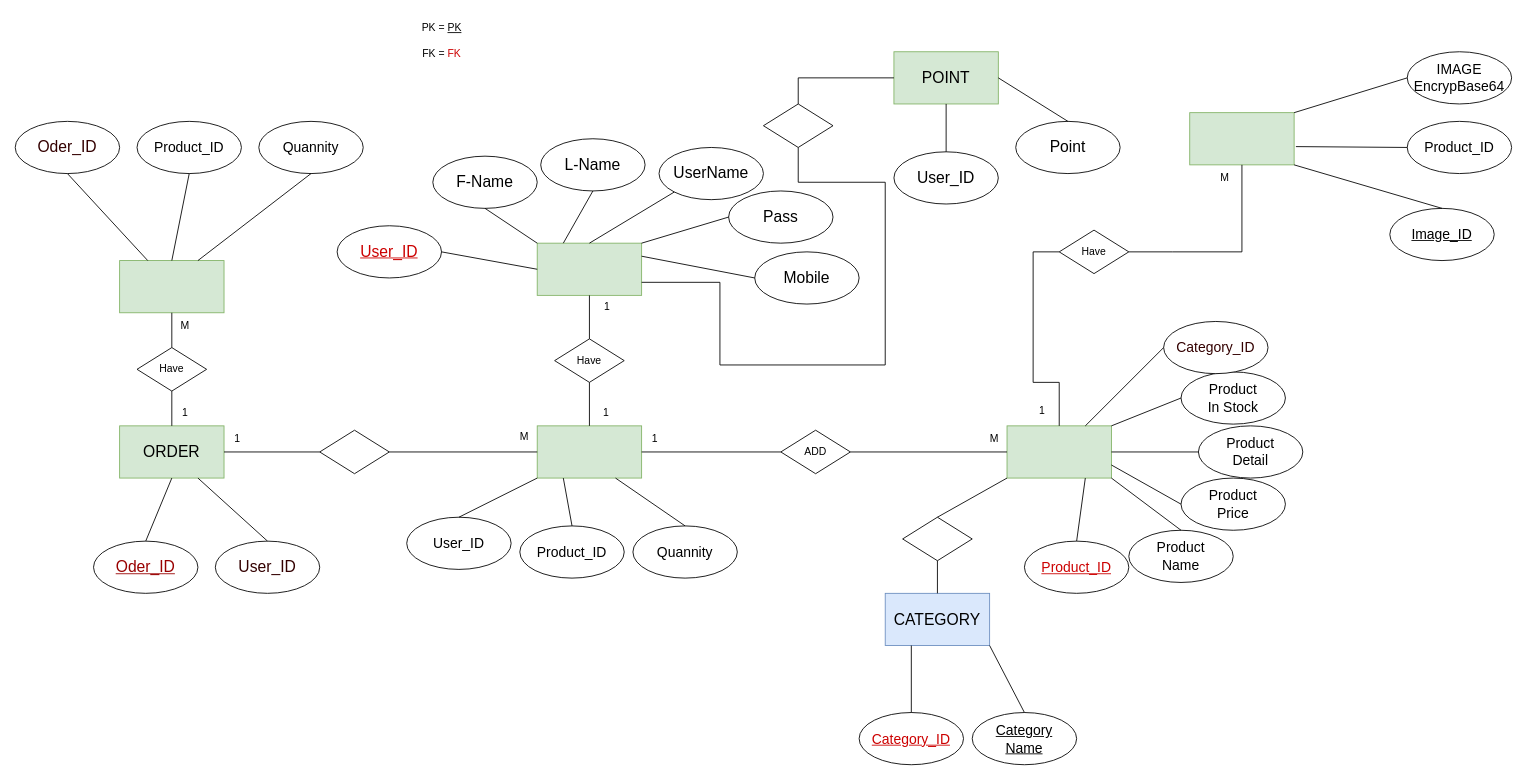
The diagram is 1527 pixels wide and 780 high, and some of its shapes have lost their labels. The box of each missing label's shape, as (x1, y1, x2, y2) in pixels:
CART ITEMS: (536, 425, 642, 478)
Create: (319, 429, 389, 474)
CUSTOMER: (536, 242, 642, 295)
Detail Order: (119, 260, 224, 313)
IMAGE: (1189, 112, 1294, 165)
MAP: (902, 516, 972, 561)
PRODUCT: (1006, 425, 1111, 478)
Use/Add: (763, 103, 833, 147)
